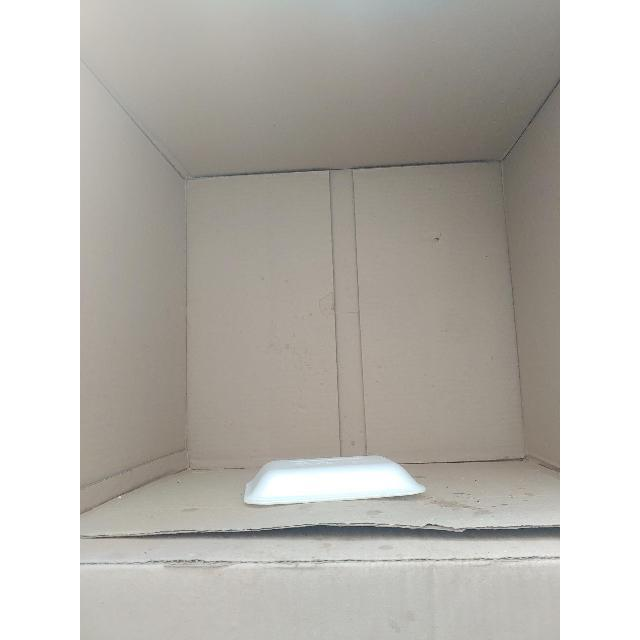Plastico descartable: (242, 456, 425, 508)
